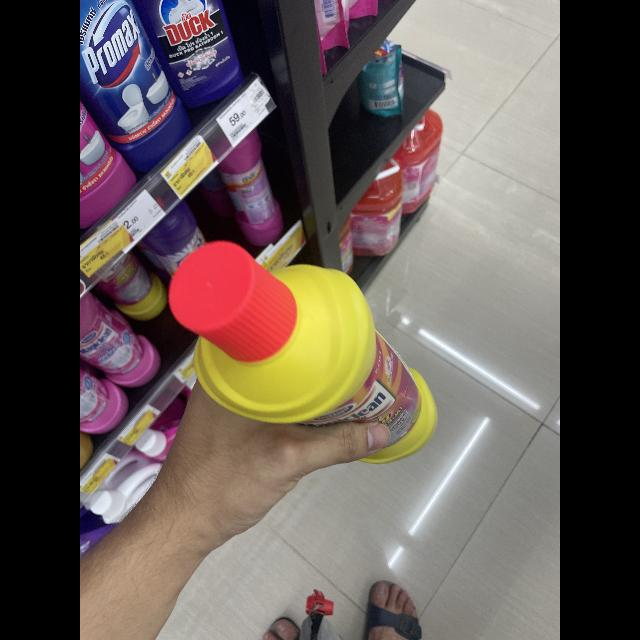chemical_plastic_bottle: (166, 240, 436, 470)
